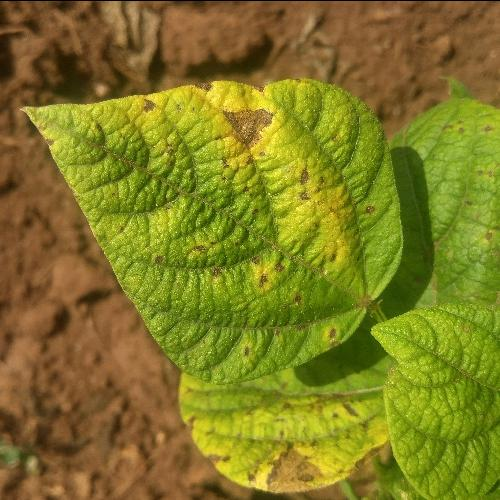hawar: (167, 83, 365, 322)
